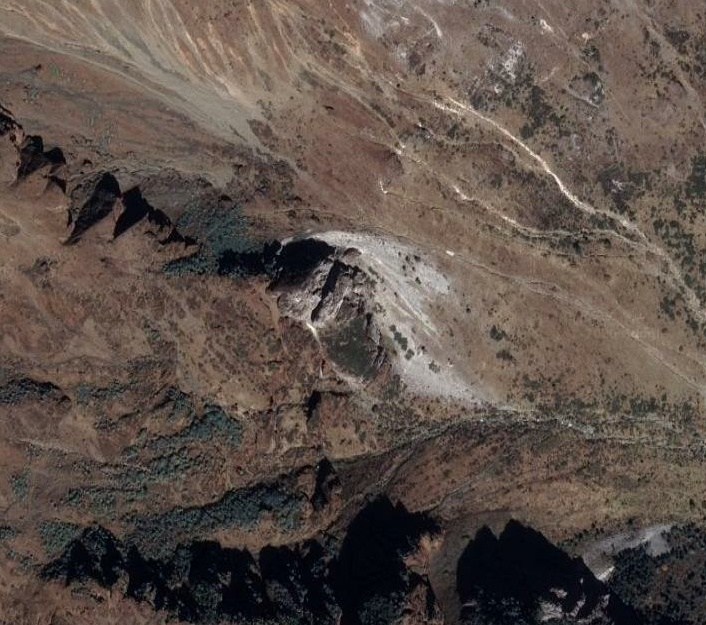slope: (268, 228, 481, 400)
